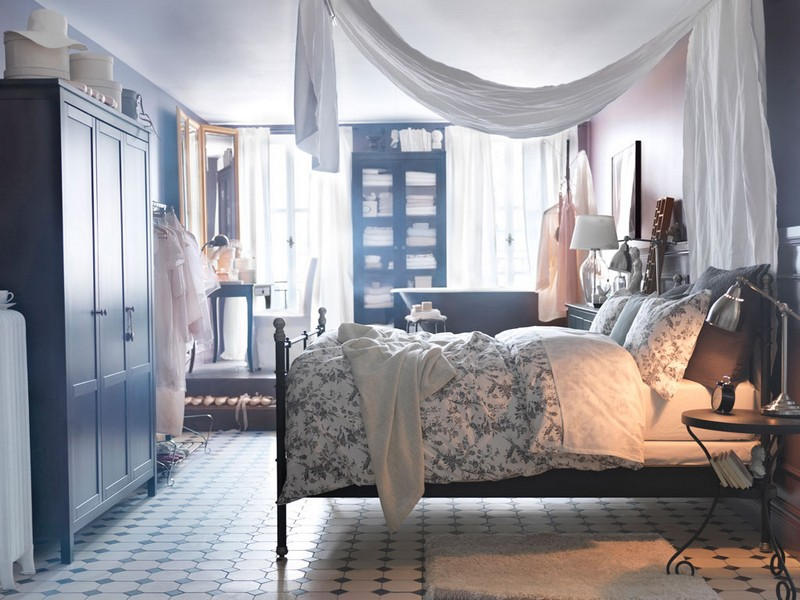bed: (272, 281, 774, 565)
lamp: (705, 266, 799, 427), (567, 212, 622, 318)
stool: (683, 404, 800, 591)
table: (203, 278, 272, 373)
